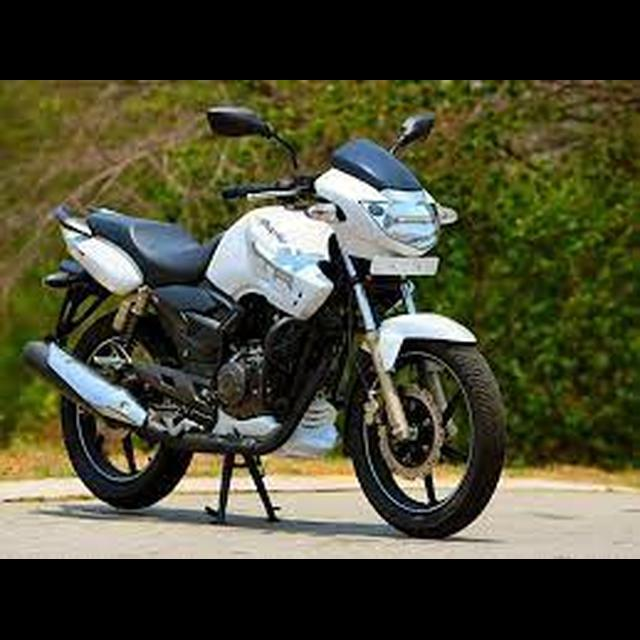motorcycle: (17, 101, 515, 543)
